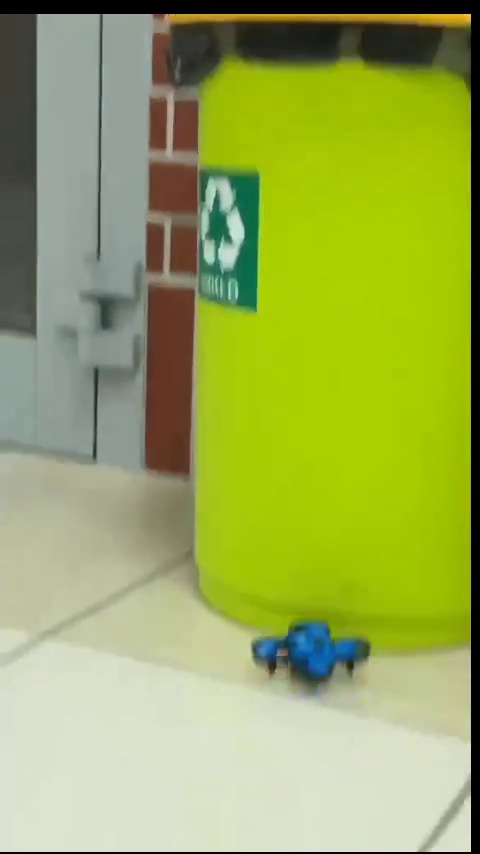drone: (256, 615, 368, 679)
